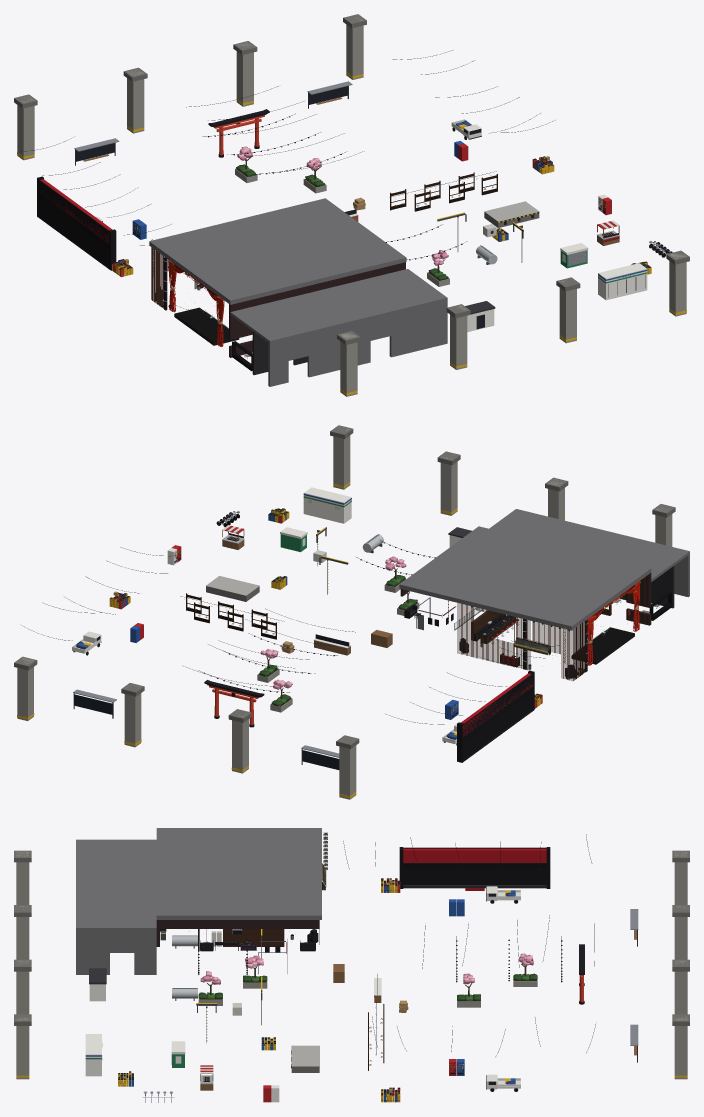
Rendered from kb-props.glb.
The picture shows the model from 3 angles, top to bottom: view 1: azimuth 30°, elevation 25°; view 2: azimuth 150°, elevation 25°; view 3: azimuth 270°, elevation 25°; orthographic projection. The views are drawn at different scales.
Parts seen in each view (by area): view 1: kb, gj, kbp, hero; view 2: kb, gj, kbp, hero; view 3: kb, gj, kbp.
Boxes of the visible parts, x1,y1,x2,y2 form: kb: [37, 171, 497, 386]; gj: [14, 14, 689, 396]; kbp: [151, 247, 251, 346]; hero: [151, 175, 493, 358]; kb: [180, 509, 689, 762]; gj: [14, 425, 675, 799]; kbp: [404, 574, 648, 680]; hero: [184, 581, 660, 665]; kb: [76, 828, 550, 1070]; gj: [14, 834, 689, 1102]; kbp: [160, 929, 319, 974].
Size of the model in its own units: 63.73 by 8 by 83.8.
Materials: 38 (10 with a texture image).
